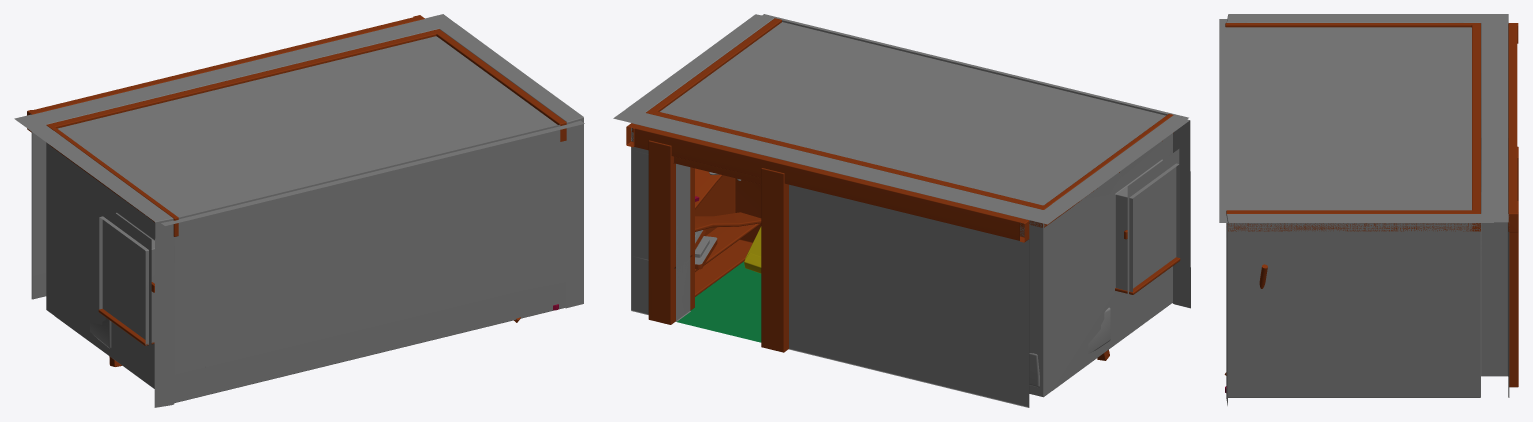
The model's file is home.fbx.
3 renders of one model, left to right at view 1: azimuth 30°, elevation 25°; view 2: azimuth 150°, elevation 25°; view 3: azimuth 270°, elevation 25°, orthographic.
Parts seen in each view (by area): view 1: home; view 2: home; view 3: home.
Boxes of the visible parts, x1,y1,x2,y2 form: home: (14, 14, 584, 407); home: (613, 14, 1190, 407); home: (1219, 14, 1518, 405).
Size of the model in its own units: 381 by 166 by 231.
